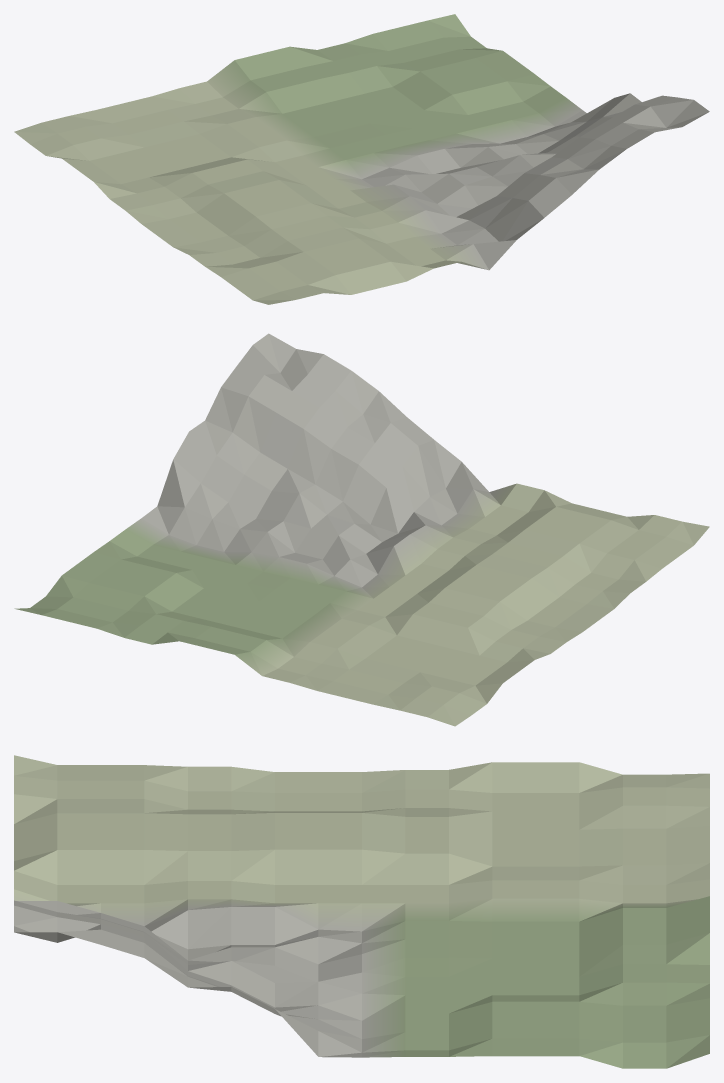
3 views of the same model, one above another, from view 1: azimuth 30°, elevation 25°; view 2: azimuth 150°, elevation 25°; view 3: azimuth 270°, elevation 25° (orthographic). The views are drawn at different scales.
Size of the model in its own units: 32 by 7.42 by 32.
